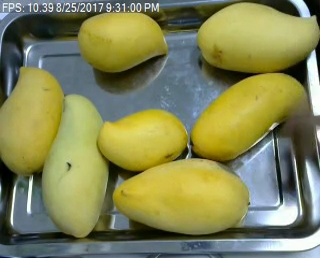Mango: (190, 73, 311, 161), (112, 158, 250, 234), (39, 92, 109, 241), (196, 1, 320, 73), (0, 65, 63, 176), (77, 9, 167, 71), (99, 108, 187, 169)
